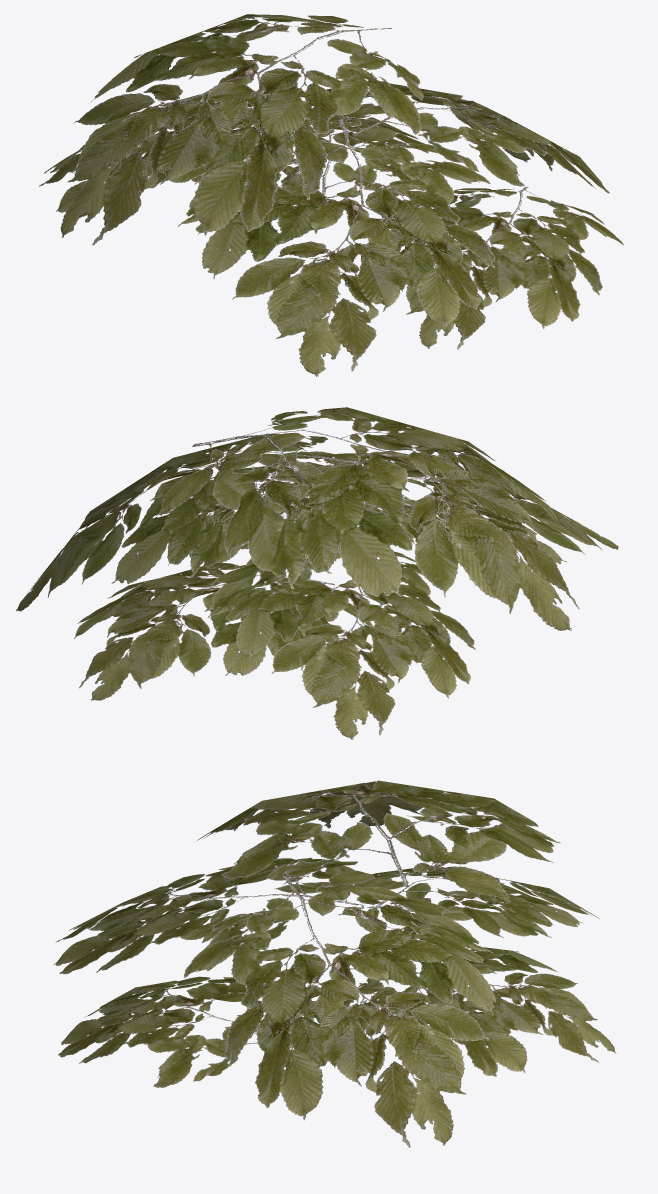
The model's file is MSH_Shrub_01.fbx.
3 renders of one model, top to bottom at view 1: azimuth 30°, elevation 25°; view 2: azimuth 150°, elevation 25°; view 3: azimuth 270°, elevation 25°, orthographic. The views are drawn at different scales.
Parts seen in each view (by area): view 1: MSH_Shrub_01_LOD0; view 2: MSH_Shrub_01_LOD0; view 3: MSH_Shrub_01_LOD0.
Part boxes in pixels (x1,y1,x2,y2): MSH_Shrub_01_LOD0: (39, 14, 623, 376); MSH_Shrub_01_LOD0: (16, 407, 618, 739); MSH_Shrub_01_LOD0: (54, 780, 616, 1147).
Size of what is drawn, in the model's own units: 220 by 92.12 by 227.
